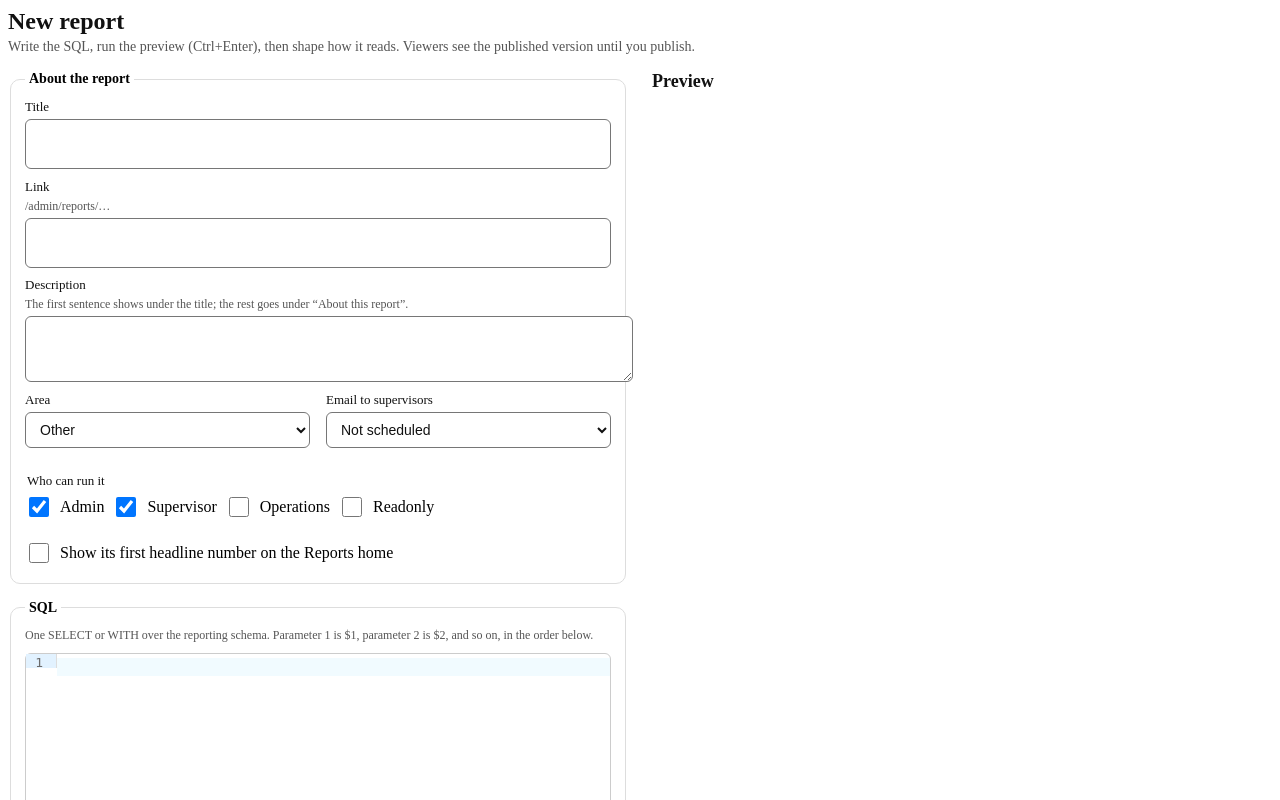
it: ReportEditor › fills the link from the title, and summarises what is missing on save
Type "Funded loans" into the field labelled "Title" at (318, 144), box [25,119,611,169]
(page scrolled)
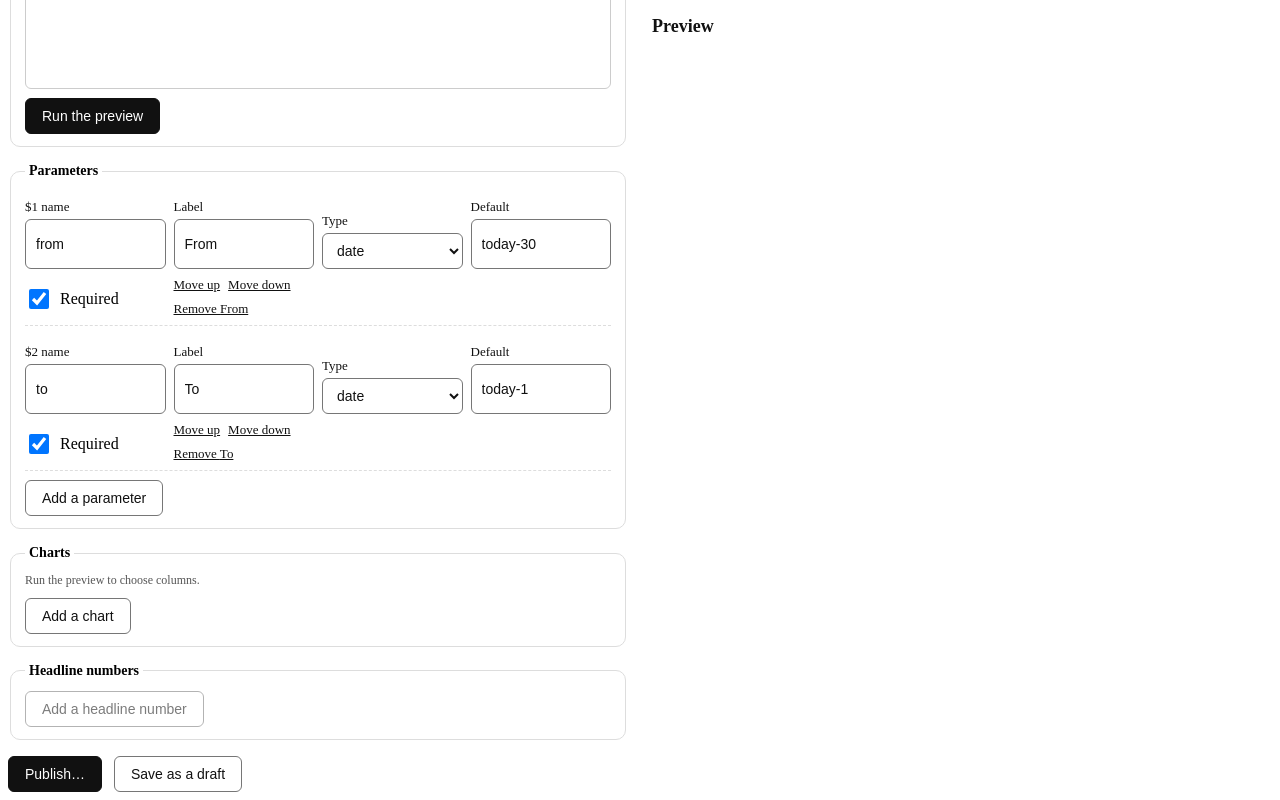
Click the button "Save as a draft" at (178, 774), box [114,756,242,792]
(page scrolled)
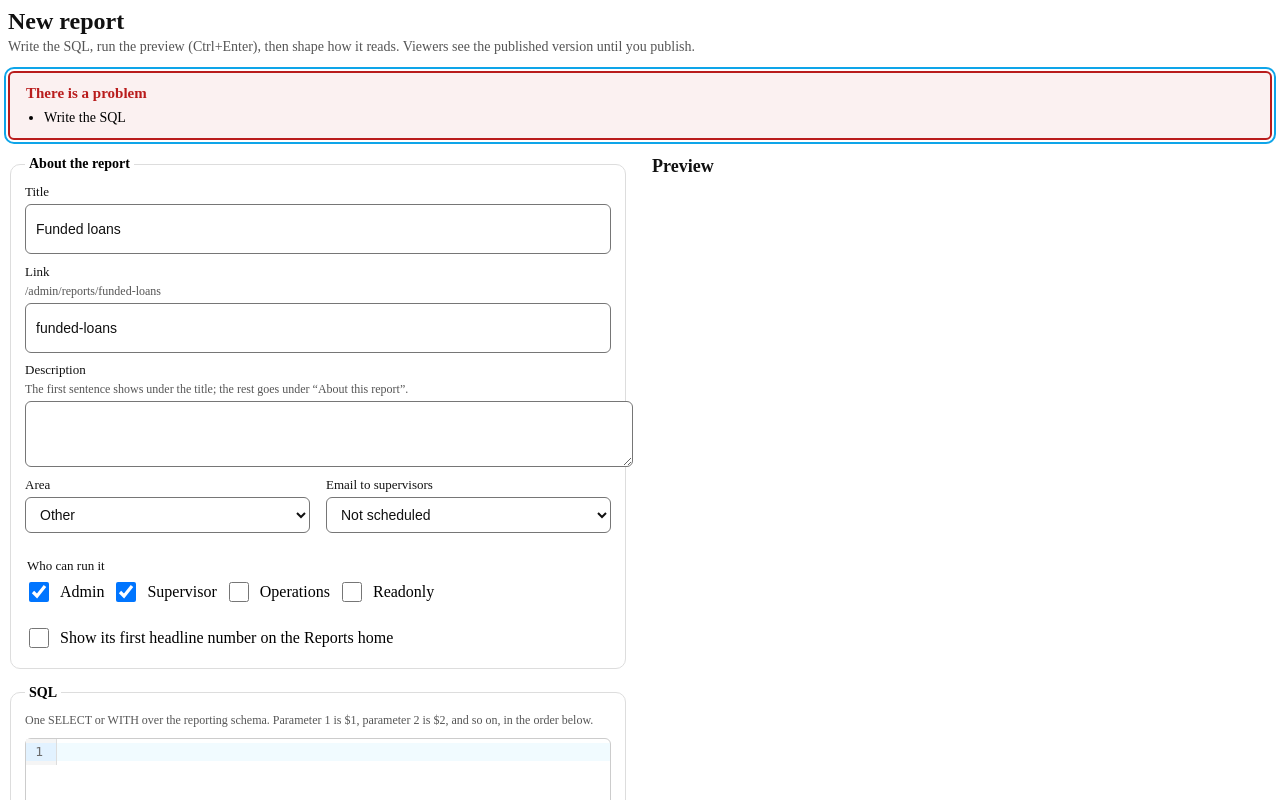
Check: the message with test id "editor-problems" shows "Write the SQL", box [44,110,126,125]
